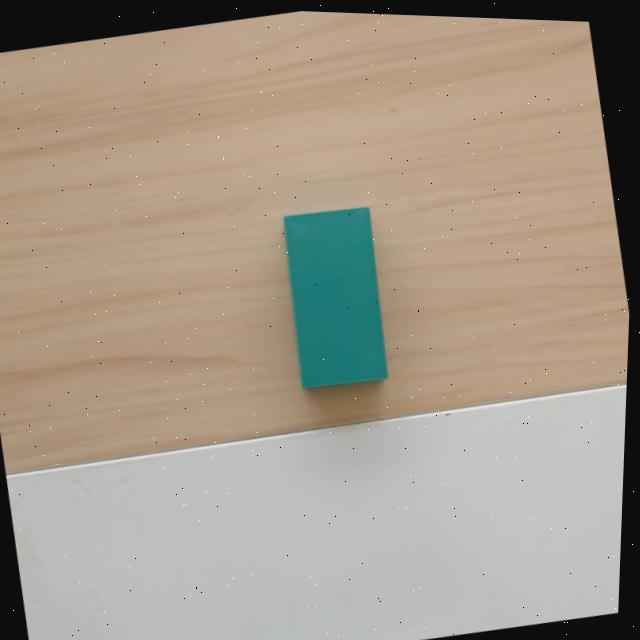Balok-Hijau-1005025: (281, 205, 387, 388)
